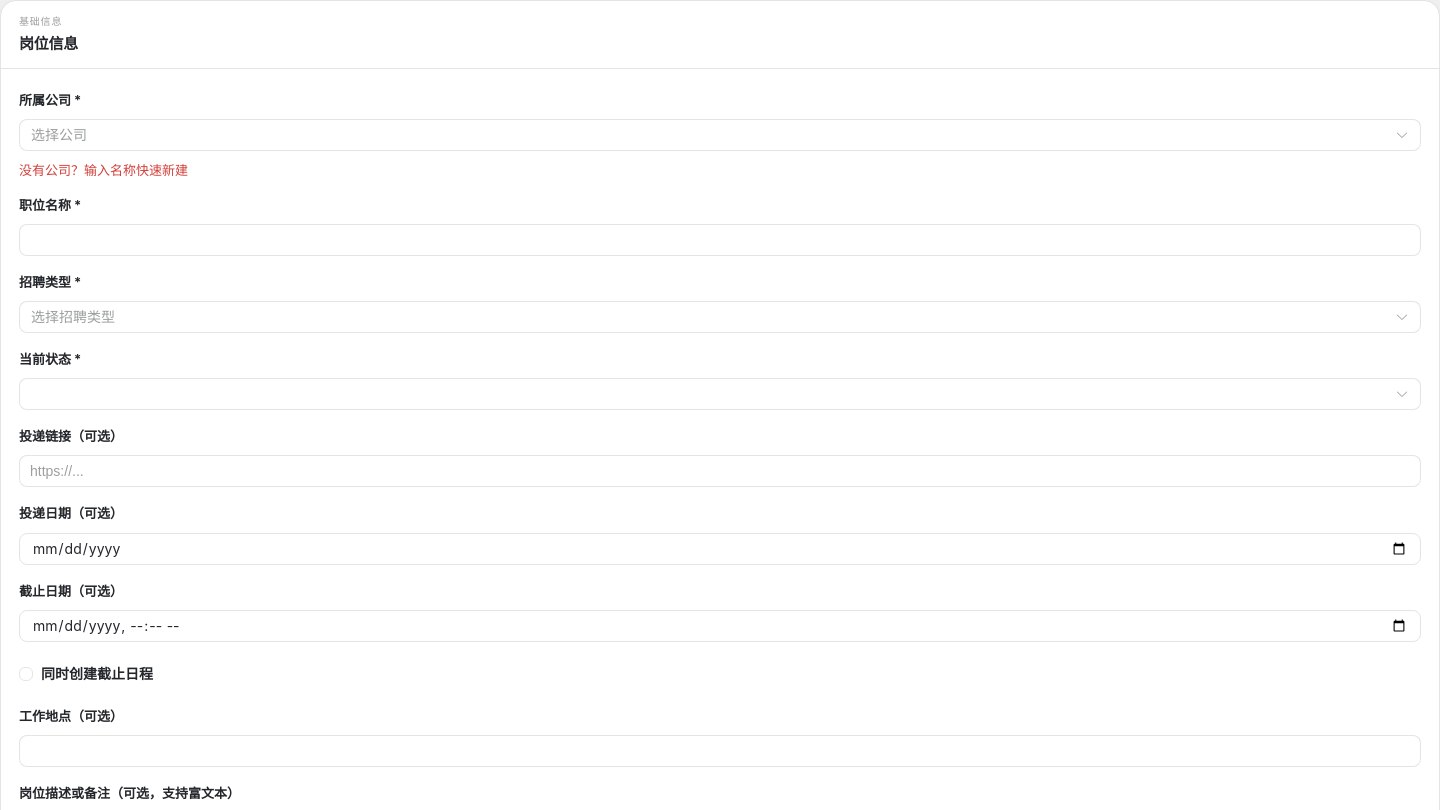
Test case: PositionForm › rejects apply links without a safe protocol
The width and height of the screenshot is (1440, 810).
In the 1st field named "title": point(720, 240) 30,225 -> 1410,255, type "后端开发工程师"
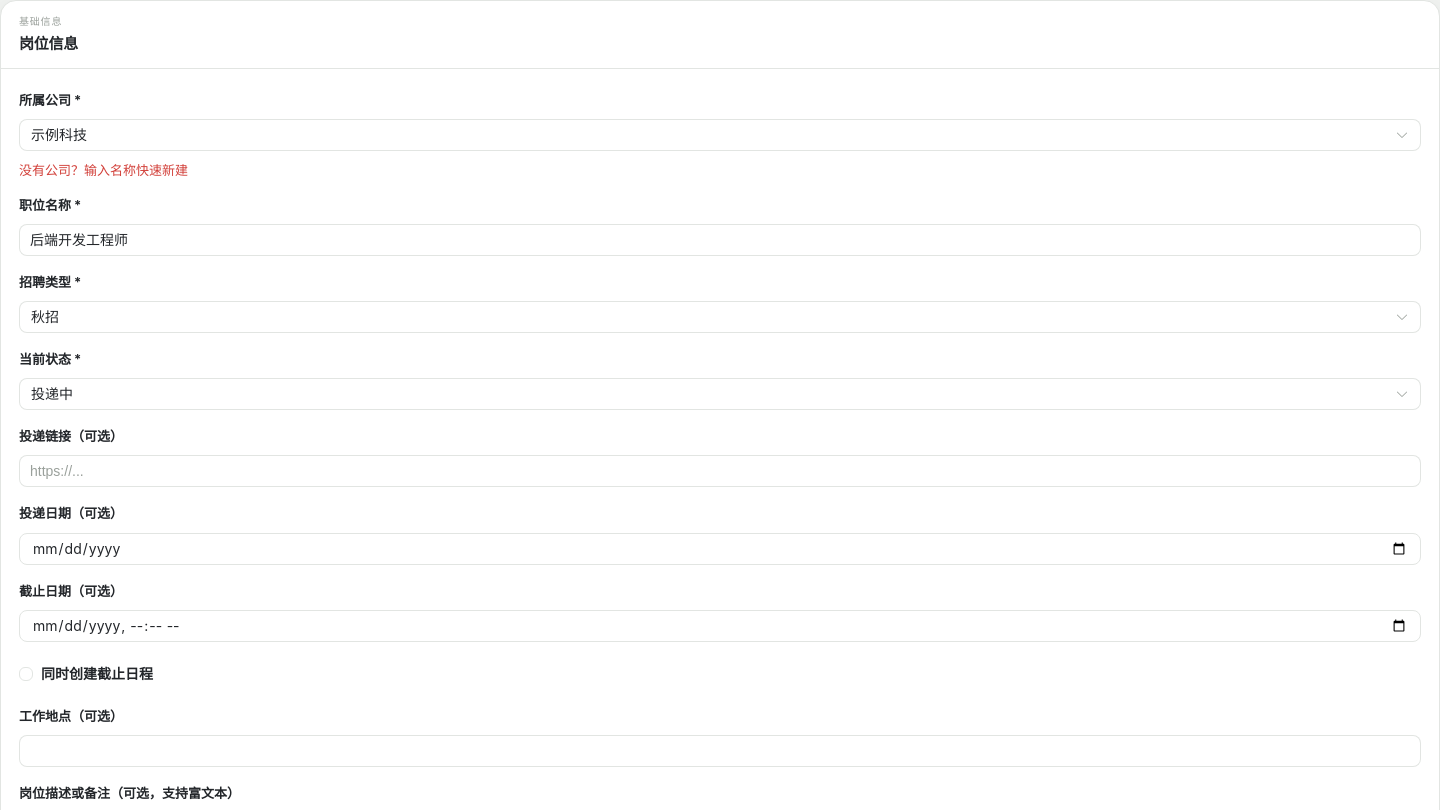
In the field named "applyUrl": point(720, 472) 30,456 -> 1410,486, type "javascript:alert(1)"
(page scrolled)
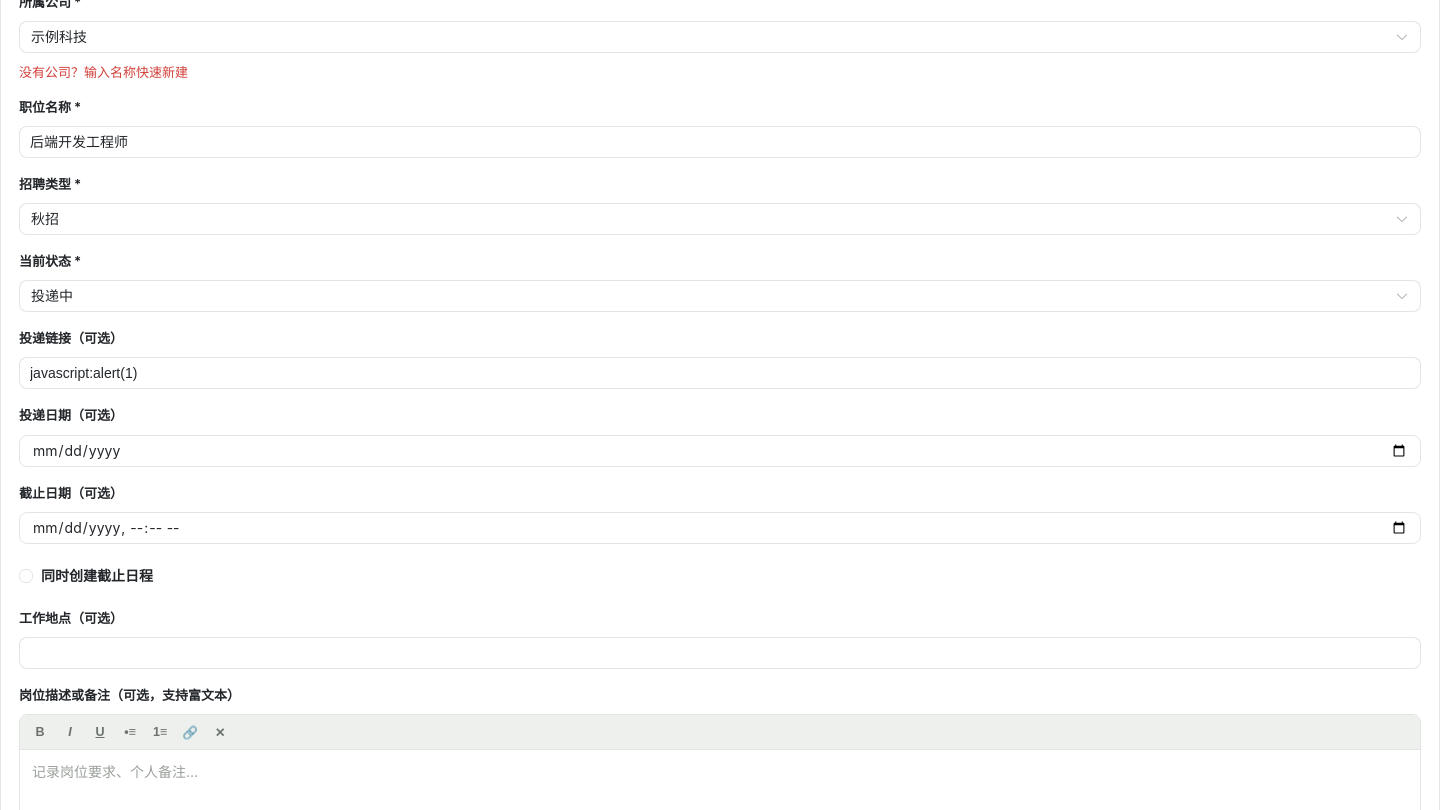
Submit the form
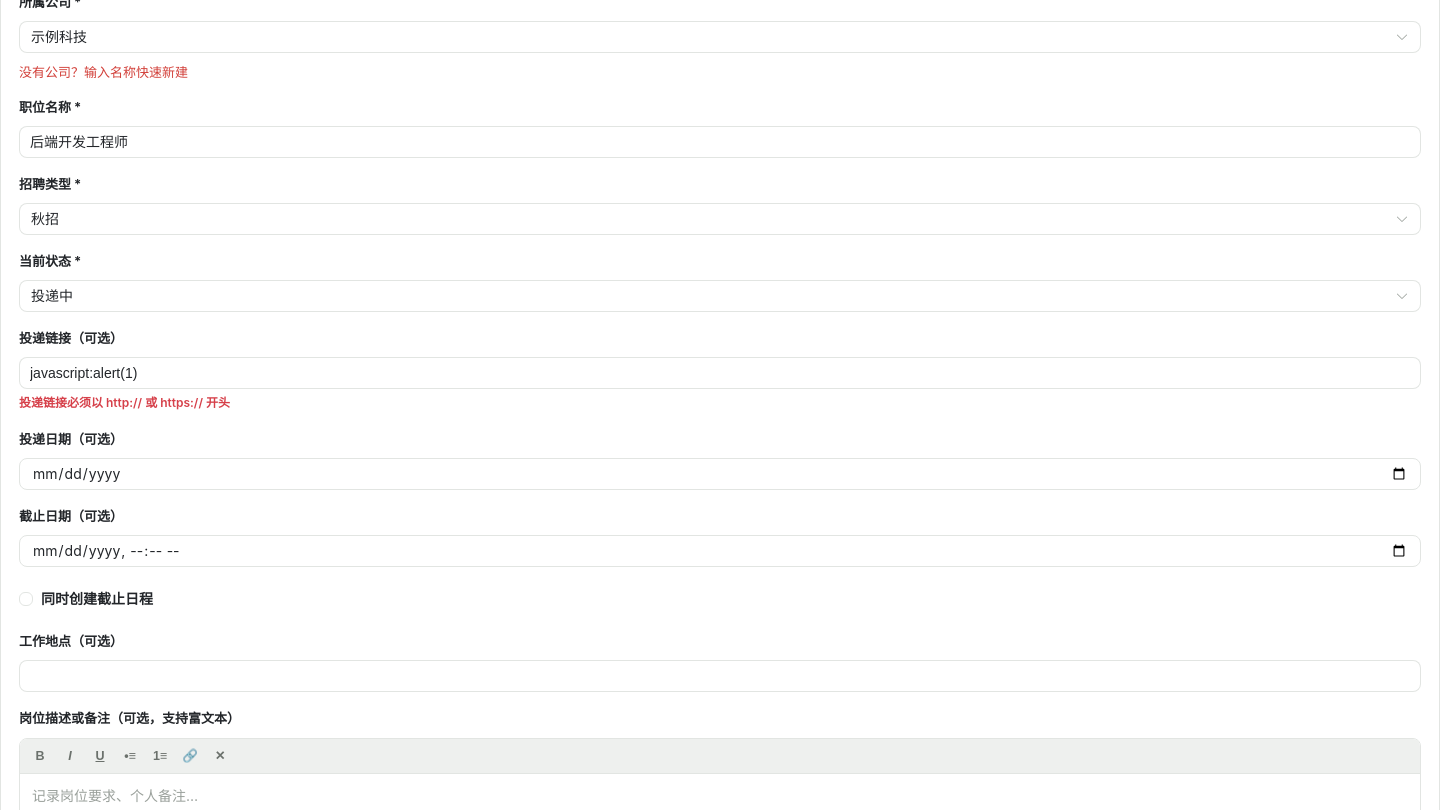
Expected: the message "投递链接必须以 http:// 或 https:// 开头" is shown, 19,396 -> 230,410
